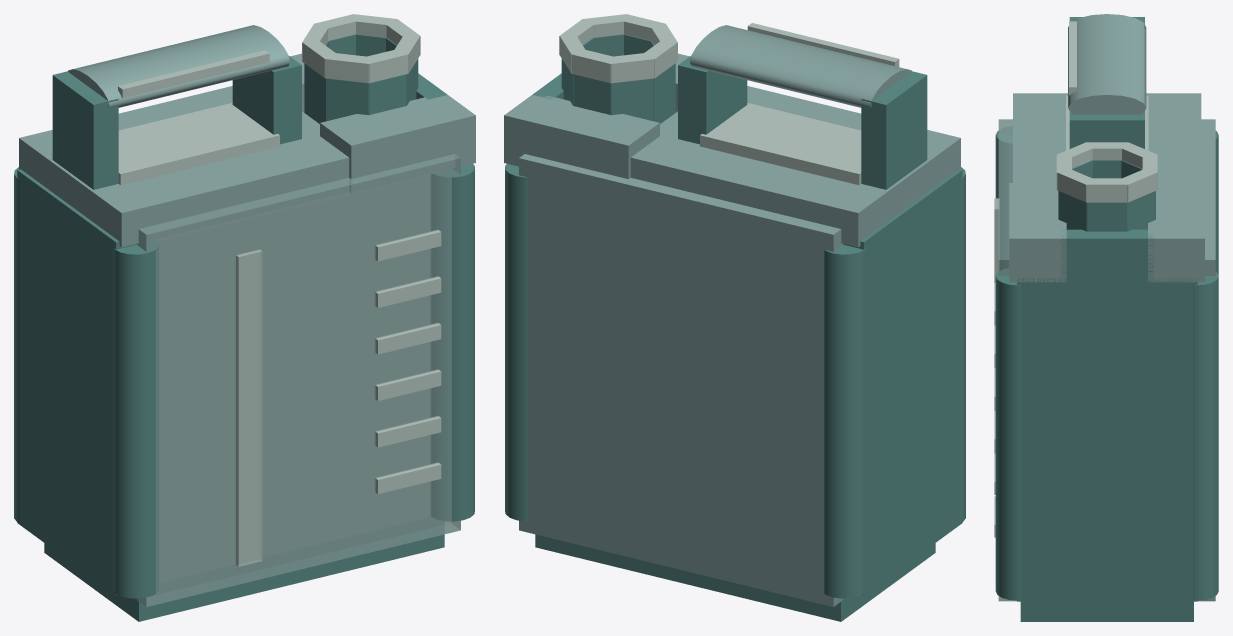
Rendered from CMU3DReagentJugFill5StudyCloud.glb.
The picture shows the model from 3 angles, left to right: view 1: azimuth 30°, elevation 25°; view 2: azimuth 150°, elevation 25°; view 3: azimuth 270°, elevation 25°; orthographic projection. The views are drawn at different scales.
Parts seen in each view (by area): view 1: front translucent jug wall, left molded jug wall, rounded canister corner (×3), jug shoulder left deck, jug shoulder front around spout, front vertical molding, handle inner lower ledge, handle rounded bridge, handle left upright, closed molded jug floor, handle right upright, handle top glint (+14 smaller); view 2: back molded jug wall, left molded jug wall, rounded canister corner (×3), jug shoulder left deck, handle rounded bridge, jug shoulder rear around spout, handle inner lower ledge, handle left upright, closed molded jug floor, handle right upright, hollow pouring neck 04, handle top glint (+7 smaller); view 3: right molded jug wall, rounded canister corner (×4), jug shoulder left deck, handle rounded bridge, jug shoulder front around spout, jug shoulder rear around spout, jug shoulder right around spout, closed molded jug floor, handle right upright, front translucent jug wall, back molded jug wall, hollow pouring neck 01 (+12 smaller).
Part boxes in pixels (bbox=[...]): front translucent jug wall: bbox=[136, 154, 460, 606]; left molded jug wall: bbox=[17, 169, 136, 595]; rounded canister corner (×3): bbox=[14, 164, 474, 598]; jug shoulder left deck: bbox=[19, 86, 349, 247]; jug shoulder front around spout: bbox=[320, 95, 475, 192]; front vertical molding: bbox=[236, 249, 262, 566]; handle inner lower ledge: bbox=[118, 103, 279, 185]; handle rounded bridge: bbox=[68, 25, 289, 107]; handle left upright: bbox=[52, 71, 118, 189]; closed molded jug floor: bbox=[44, 534, 444, 621]; handle right upright: bbox=[232, 56, 301, 144]; handle top glint: bbox=[118, 50, 269, 98]; back molded jug wall: bbox=[519, 154, 843, 606]; left molded jug wall: bbox=[843, 169, 962, 595]; rounded canister corner (×3): bbox=[505, 164, 965, 598]; jug shoulder left deck: bbox=[630, 86, 960, 247]; handle rounded bridge: bbox=[690, 25, 911, 107]; jug shoulder rear around spout: bbox=[504, 95, 659, 178]; handle inner lower ledge: bbox=[700, 103, 861, 185]; handle left upright: bbox=[861, 71, 927, 189]; closed molded jug floor: bbox=[535, 534, 935, 621]; handle right upright: bbox=[678, 56, 747, 144]; hollow pouring neck 04: bbox=[610, 78, 653, 120]; handle top glint: bbox=[747, 23, 899, 66]; right molded jug wall: bbox=[1017, 278, 1197, 601]; rounded canister corner (×4): bbox=[995, 131, 1218, 600]; jug shoulder left deck: bbox=[1013, 93, 1201, 182]; handle rounded bridge: bbox=[1068, 14, 1146, 114]; jug shoulder front around spout: bbox=[1009, 183, 1066, 282]; jug shoulder rear around spout: bbox=[1148, 183, 1204, 282]; jug shoulder right around spout: bbox=[1060, 229, 1153, 282]; closed molded jug floor: bbox=[1020, 601, 1193, 621]; handle right upright: bbox=[1069, 111, 1144, 148]; front translucent jug wall: bbox=[998, 119, 1016, 601]; back molded jug wall: bbox=[1198, 119, 1215, 601]; hollow pouring neck 01: bbox=[1086, 202, 1127, 231].
Size of the model in its own units: 0.502 by 0.688 by 0.298.
